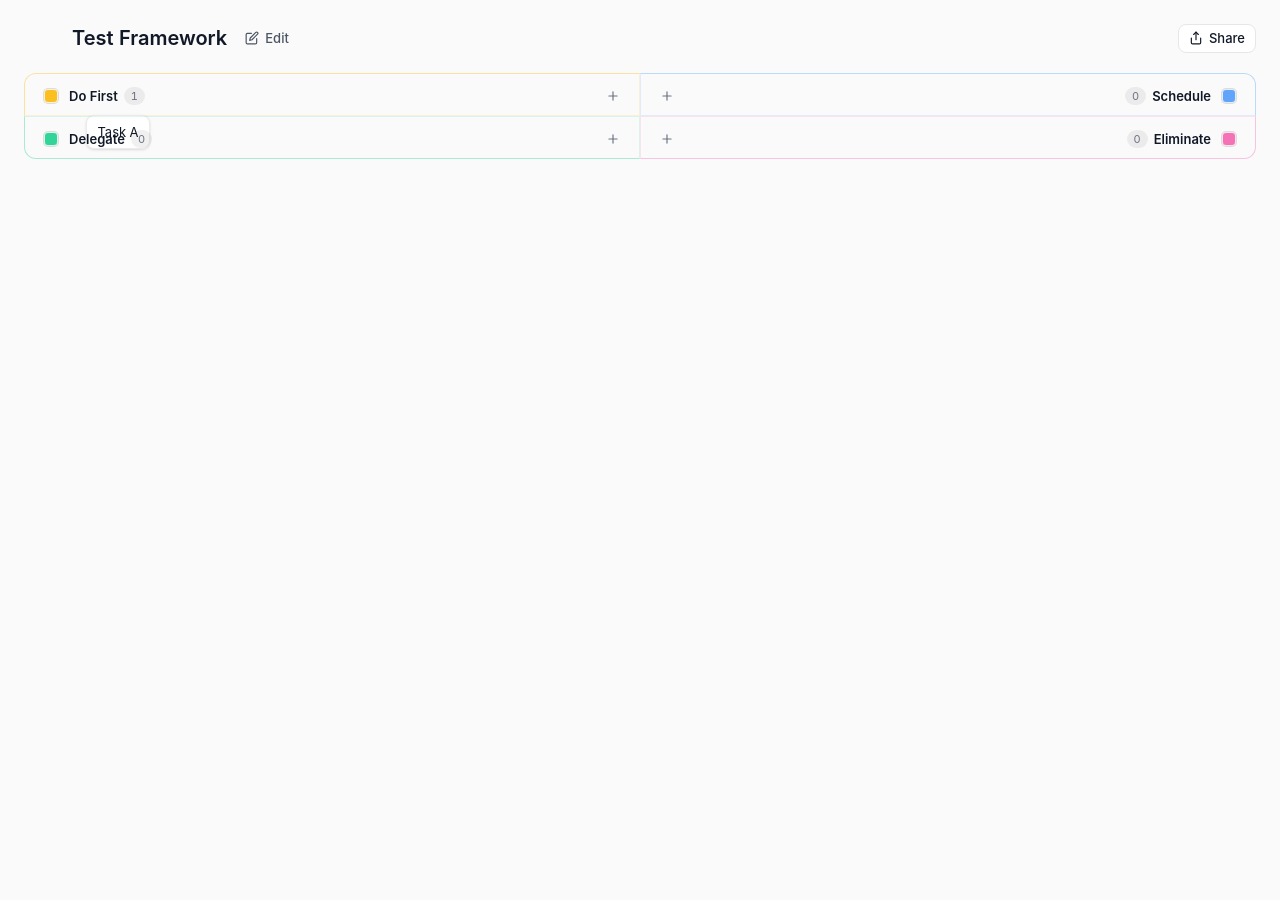
Test case: QuadrantCanvas — item editing routed through EditModal (IMPRV-006) › cancelling an add leaves no card behind
Click the button named "add item to schedule" at [667, 96], box left=655, top=84, right=679, bottom=108
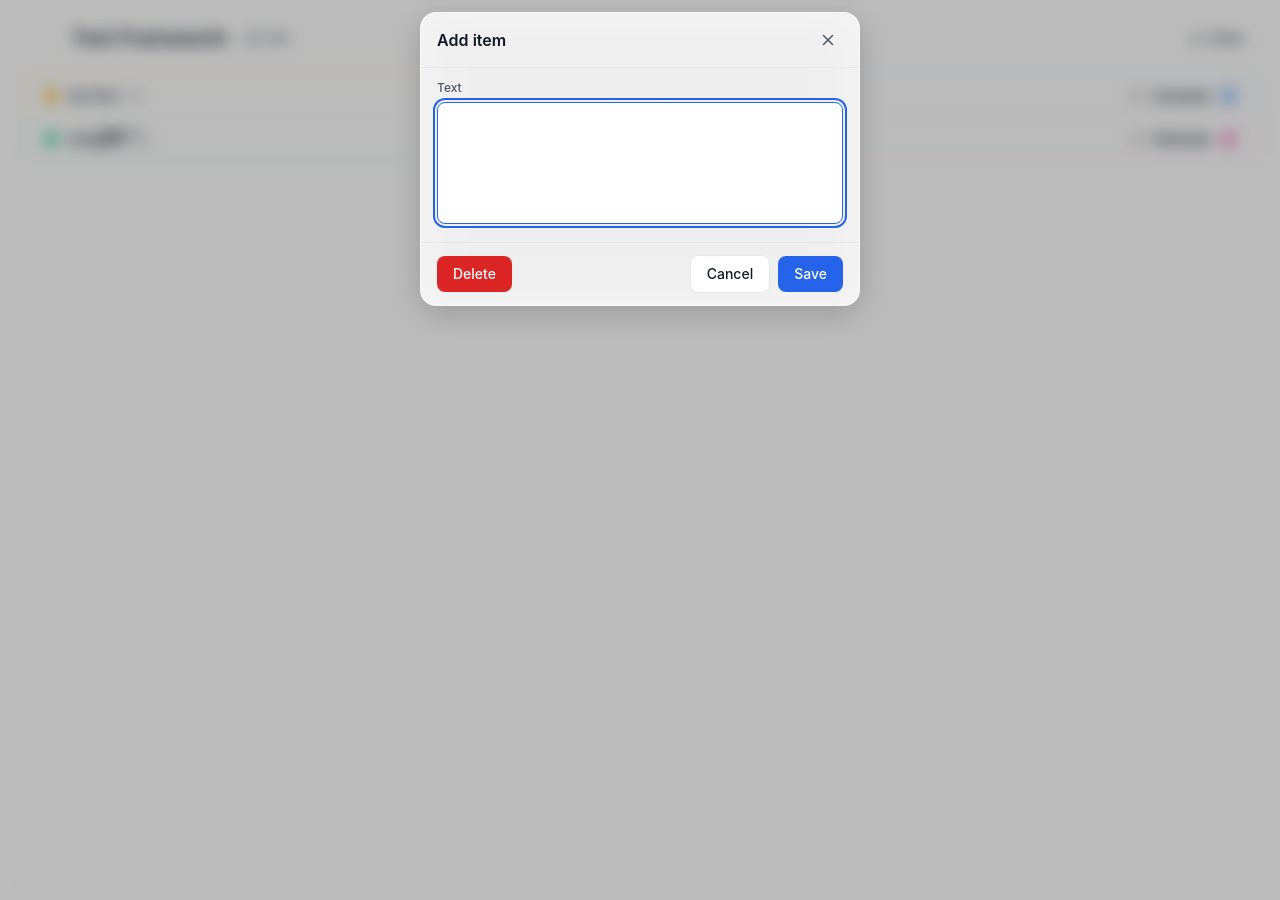
Type "Changed my mind" into the text box at [640, 163], box left=437, top=102, right=843, bottom=224
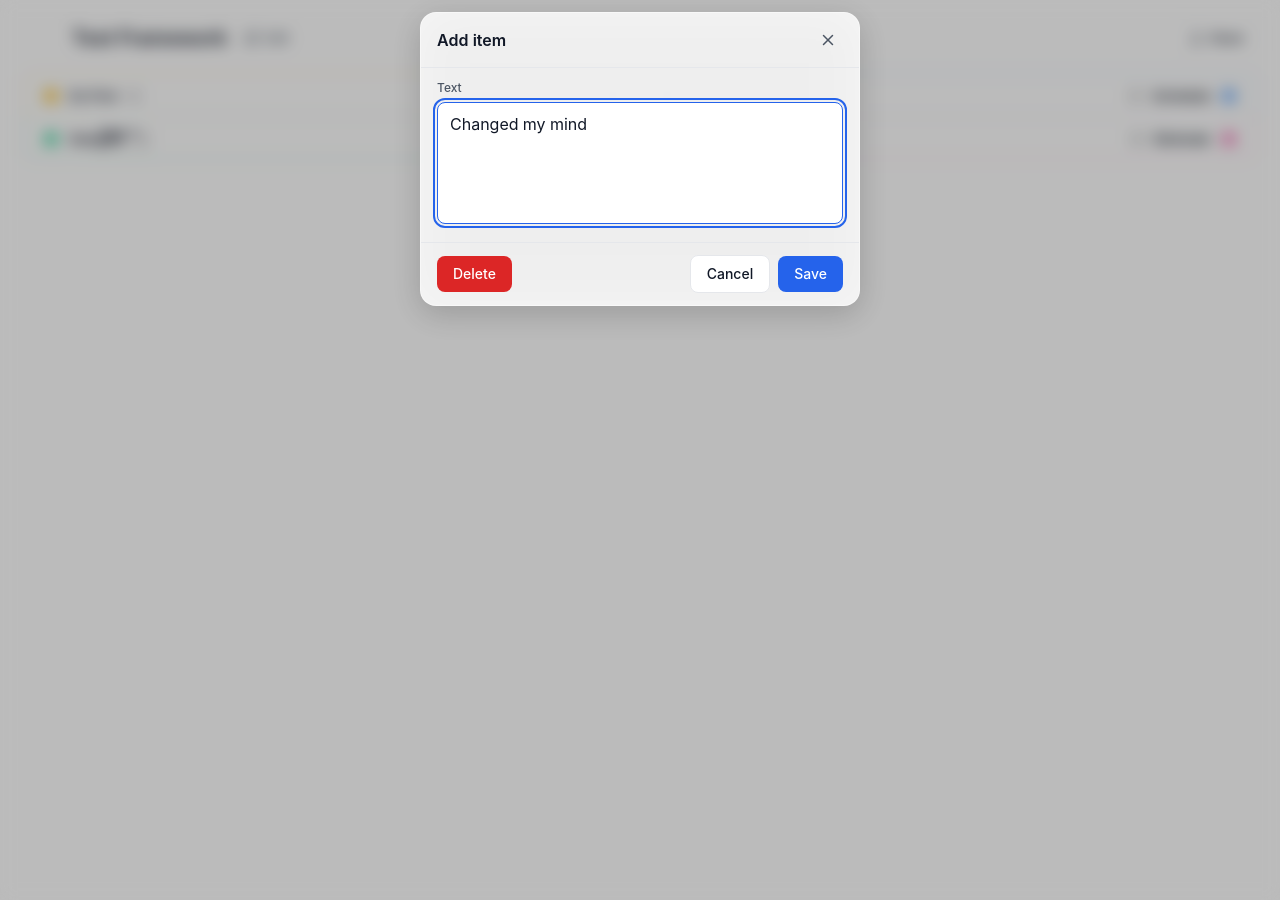
Click the button "Cancel" at [730, 274], box left=690, top=255, right=770, bottom=293
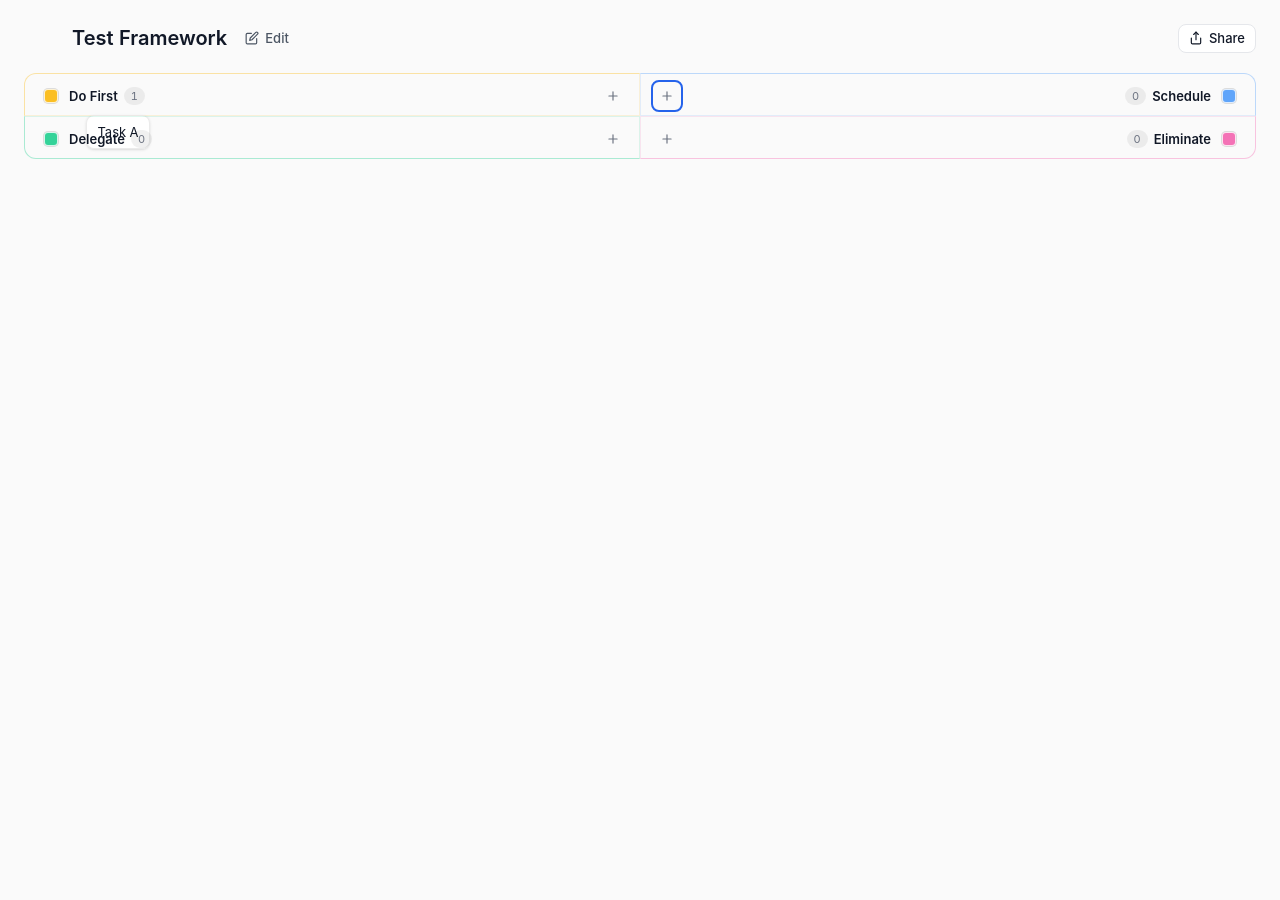
Expected: the text "Changed my mind" is not shown
Result: the dialog is gone
